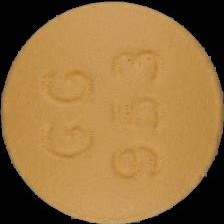0781-5021: (0, 0, 224, 224)
